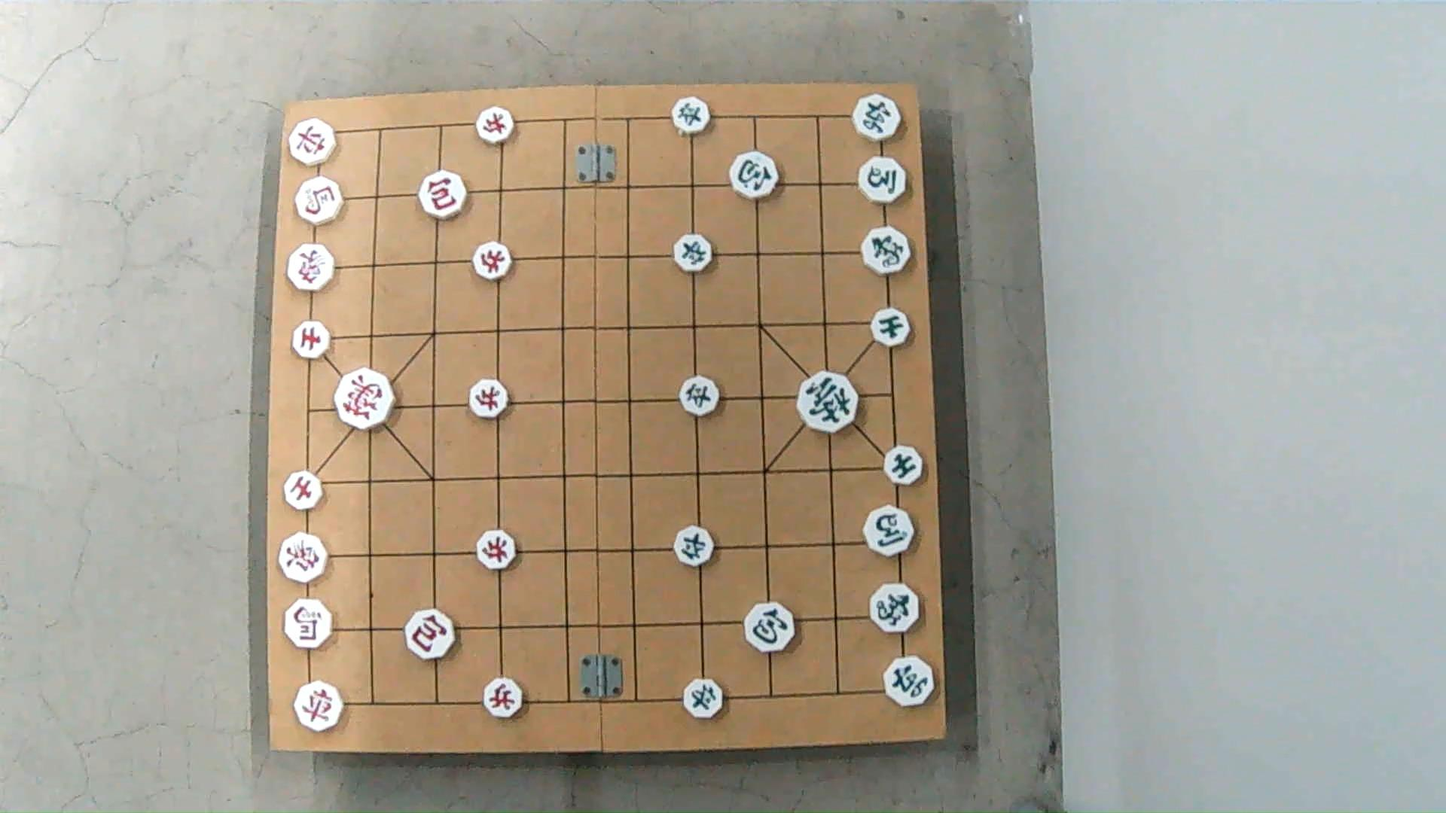cha_green: (883, 655, 935, 705), (850, 99, 901, 142)
cha_red: (294, 684, 345, 730), (287, 119, 337, 162)
jol_green: (684, 680, 728, 717), (670, 530, 715, 565), (675, 377, 718, 413), (669, 239, 713, 274), (676, 102, 718, 136)
jol_red: (468, 378, 511, 419), (470, 240, 514, 278), (481, 680, 525, 717), (474, 105, 516, 142), (475, 532, 518, 568)
ma_green: (864, 502, 917, 556), (856, 159, 908, 202)
ma_red: (282, 598, 334, 650), (296, 178, 345, 222)
po_green: (745, 602, 798, 651), (728, 154, 779, 197)
po_red: (404, 613, 458, 658), (419, 175, 471, 218)
sa_green: (882, 447, 925, 484), (870, 311, 914, 346)
sa_red: (292, 321, 333, 359), (285, 473, 326, 510)
sang_green: (871, 582, 921, 633), (862, 225, 914, 274)
sang_red: (280, 531, 333, 583), (288, 247, 338, 291)
wang_green: (794, 374, 860, 431)
wang_red: (337, 374, 398, 429)
